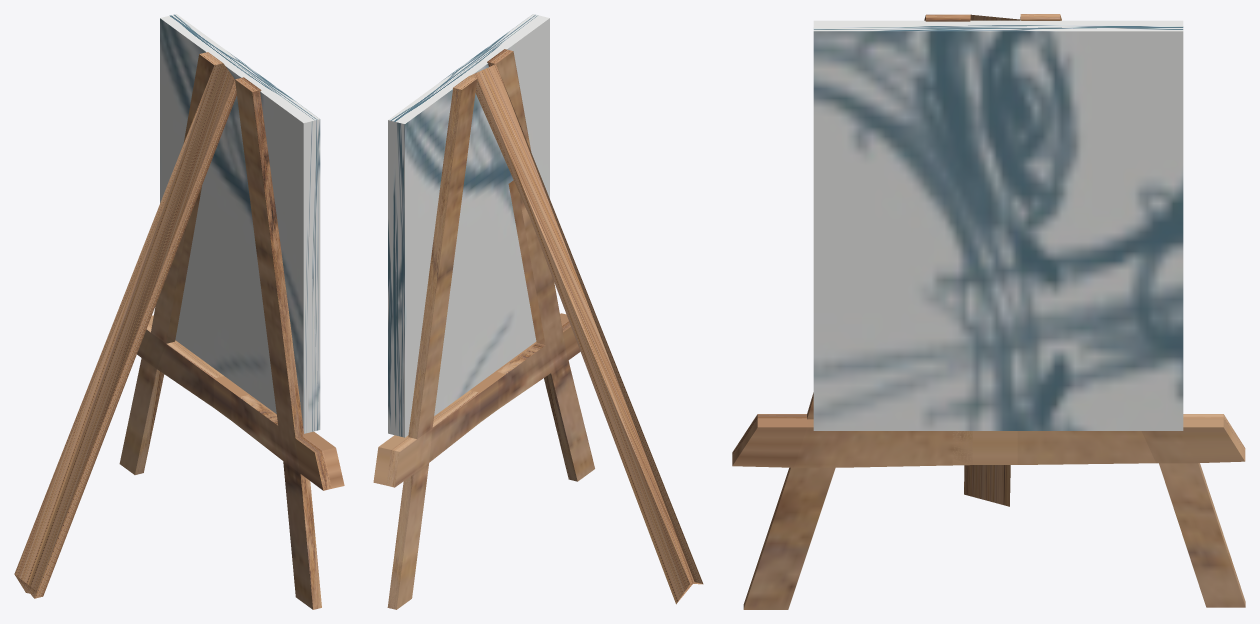
The model's file is chevalet.fbx.
The picture shows the model from 3 angles, left to right: view 1: azimuth 30°, elevation 25°; view 2: azimuth 150°, elevation 25°; view 3: azimuth 270°, elevation 25°; orthographic projection. The views are drawn at different scales.
Parts seen in each view (by area): view 1: Cube, Cube.001; view 2: Cube, Cube.001; view 3: Cube.001, Cube.
Boxes of the visible parts, x1,y1,x2,y2 form: Cube: (14, 52, 344, 609); Cube.001: (160, 14, 320, 433); Cube: (373, 49, 703, 609); Cube.001: (388, 14, 549, 437); Cube.001: (813, 20, 1183, 430); Cube: (732, 14, 1245, 609).
Size of the model in its own units: 146 by 288 by 218.
